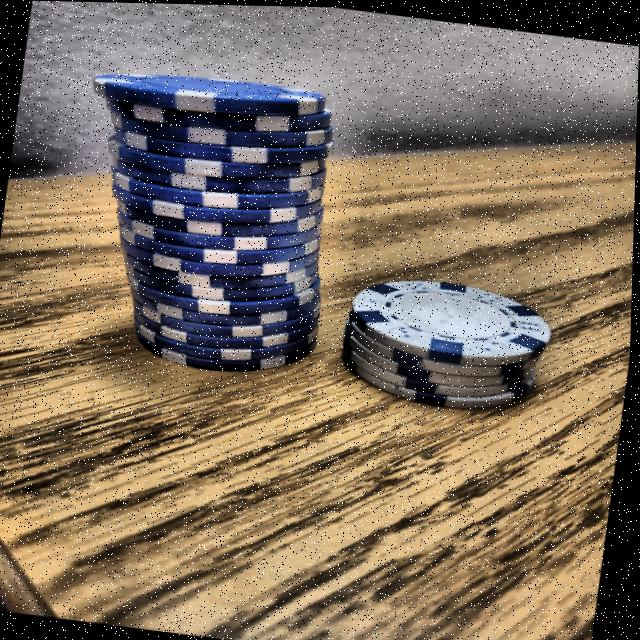Chip: (49, 46, 367, 394), (335, 249, 566, 431)
